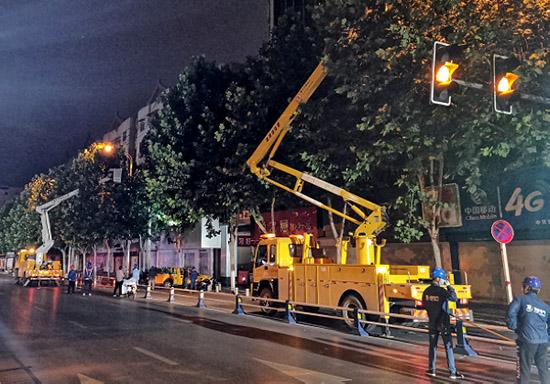helmet: (523, 276, 542, 293), (432, 269, 450, 283), (87, 262, 93, 268), (134, 264, 140, 270), (71, 265, 76, 271), (193, 267, 198, 272), (151, 267, 156, 271), (186, 268, 190, 272)
